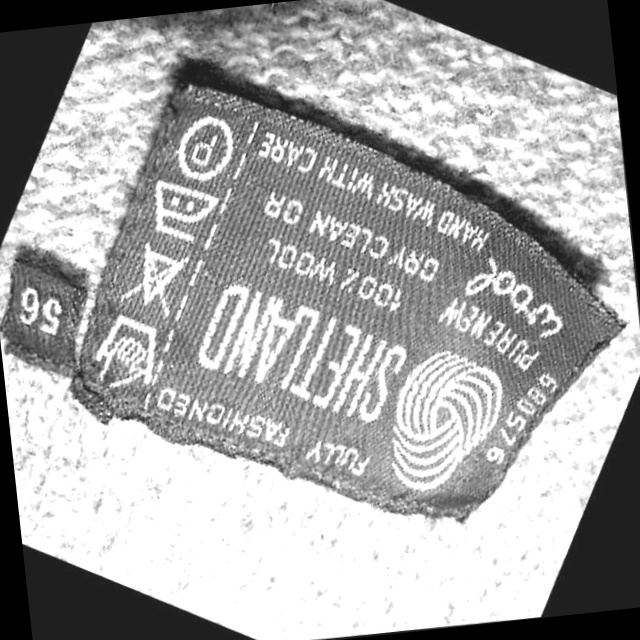DN_bleach: (112, 241, 197, 321)
dry_clean_any_solvent_except_trichloroethylene: (169, 110, 239, 185)
hand_wash: (86, 312, 164, 404)
iron_medium: (143, 175, 223, 248)
